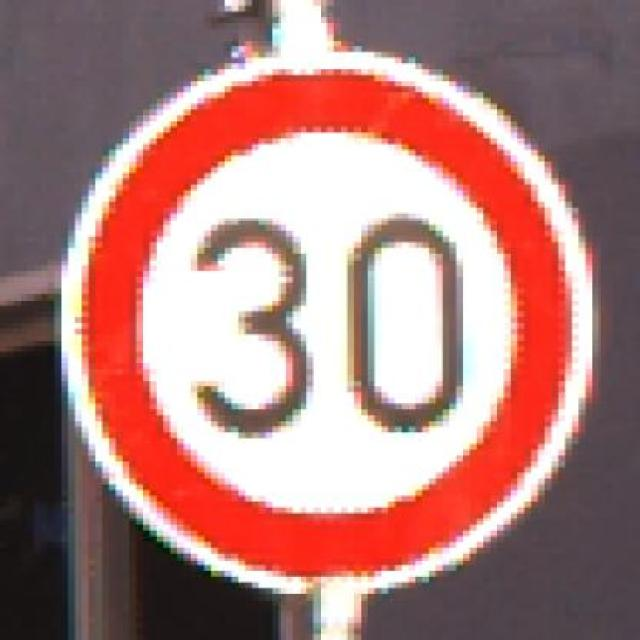Speed Limit 30 KMPh: (14, 23, 620, 606)
